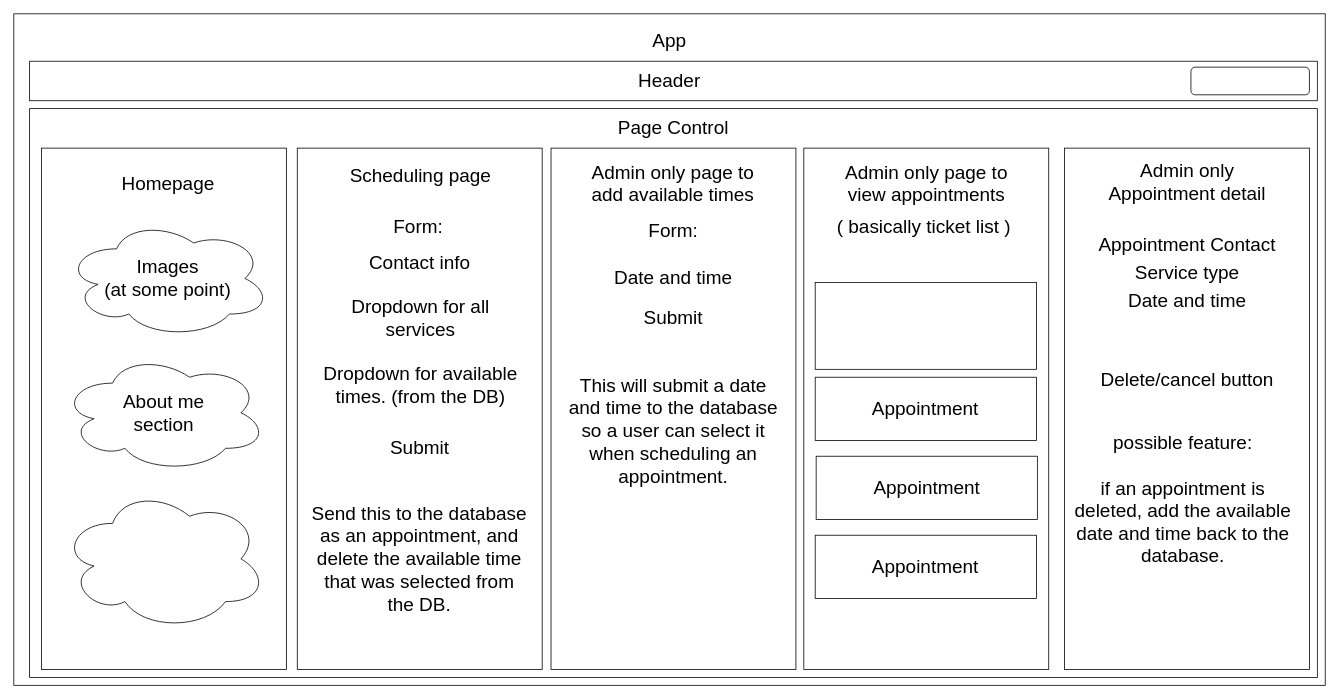
Some shapes in this 1339 by 699 pixel diagram are drawn without their labels. Each missing label, with the centre of its shape:
"Admin login" belongs at (1249,80).
"Appointment (click to go to detail page)" belongs at (925,325).
"Available Services (links to schedule)" belongs at (163,558).
